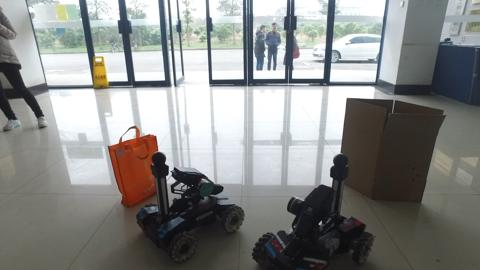bag: (109, 123, 155, 202)
box: (342, 94, 433, 199)
chariot: (256, 150, 374, 270), (140, 150, 237, 256)
